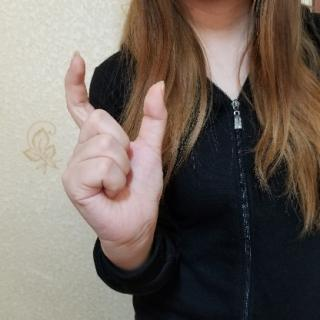NOON: (62, 48, 172, 250)
